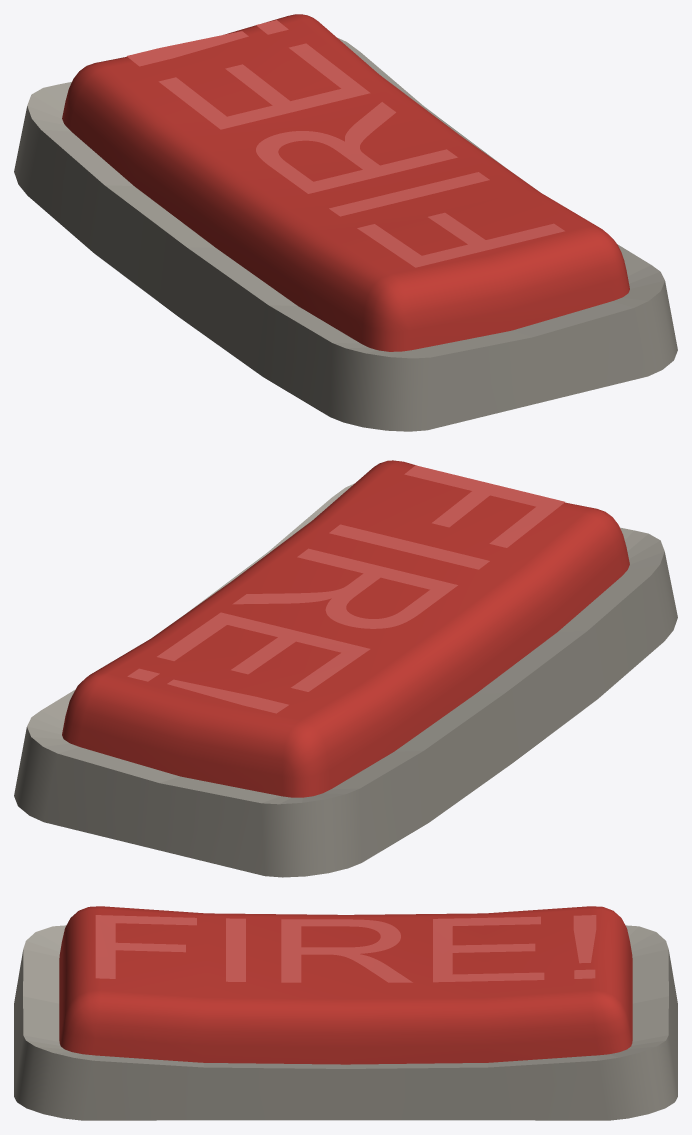
Rendered from Button.FBX.
3 renders of one model, top to bottom at view 1: azimuth 30°, elevation 25°; view 2: azimuth 150°, elevation 25°; view 3: azimuth 270°, elevation 25°, orthographic. The views are drawn at different scales.
Parts seen in each view (by area): view 1: Button, ButtonFrame, ButtonText; view 2: Button, ButtonFrame, ButtonText; view 3: Button, ButtonFrame, ButtonText.
Part boxes in pixels (x1=…): Button: x1=62, y1=14, x2=629, y2=351; ButtonFrame: x1=14, y1=38, x2=677, y2=431; ButtonText: x1=126, y1=20, x2=564, y2=267; Button: x1=62, y1=460, x2=629, y2=797; ButtonFrame: x1=14, y1=483, x2=677, y2=877; ButtonText: x1=127, y1=465, x2=564, y2=713; Button: x1=59, y1=906, x2=632, y2=1064; ButtonFrame: x1=14, y1=925, x2=677, y2=1120; ButtonText: x1=95, y1=915, x2=596, y2=982.
Size of the model in its own units: 55.56 by 22.43 by 110.
